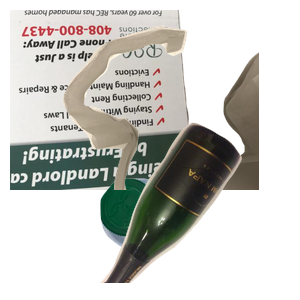glass: (87, 120, 300, 300)
paper: (10, 10, 201, 190)
plastic: (98, 176, 266, 300)
trash: (60, 23, 300, 203)
